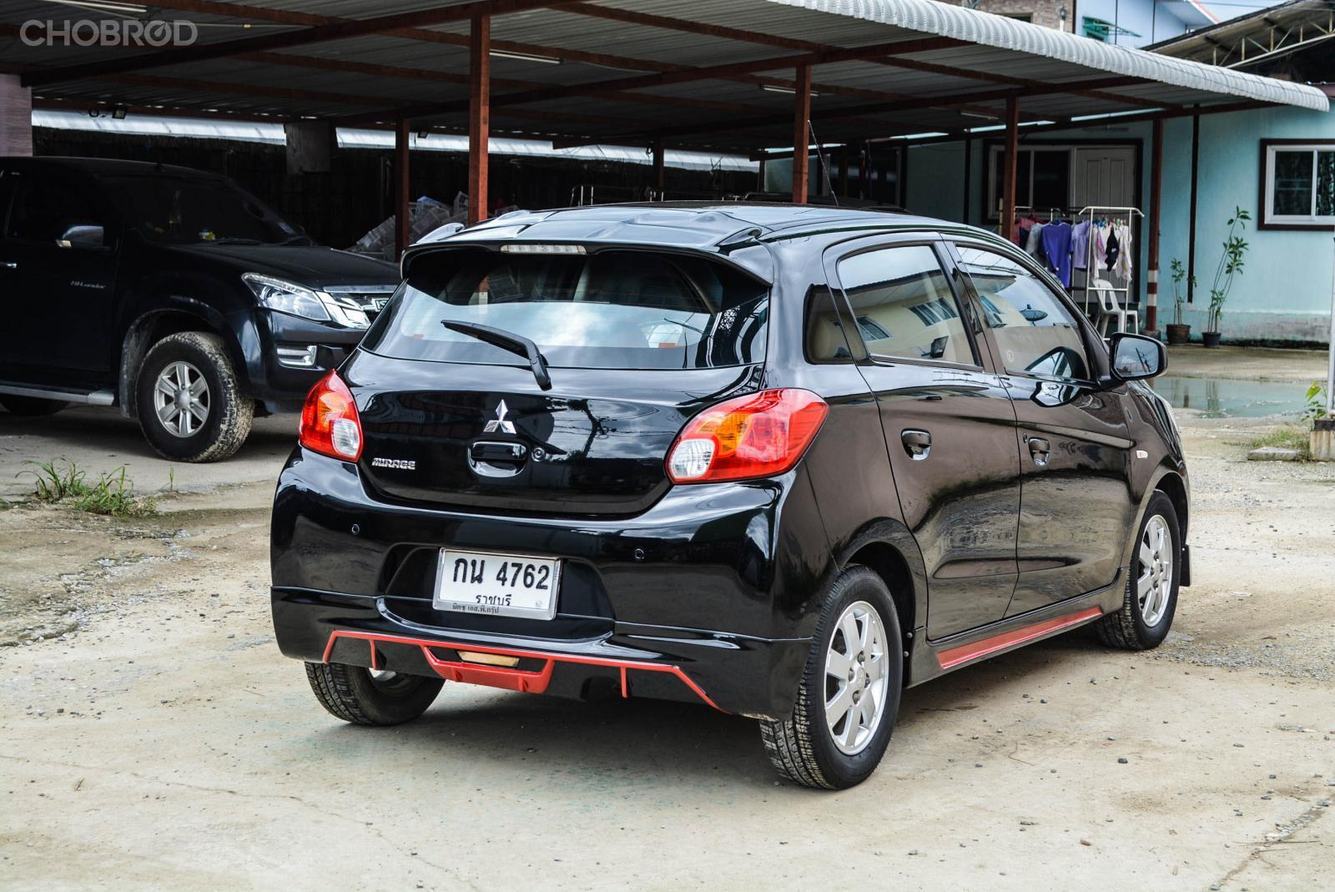license-plate: (432, 544, 565, 625)
